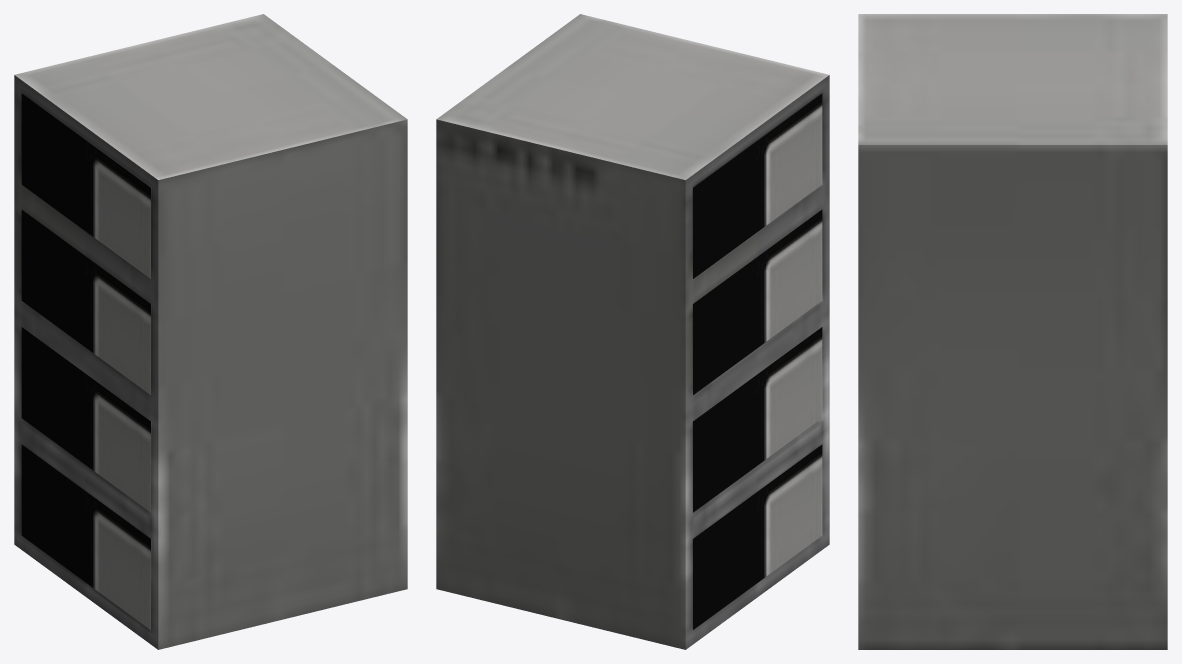
The model's file is filing_cabinet.glb.
The picture shows the model from 3 angles, left to right: view 1: azimuth 30°, elevation 25°; view 2: azimuth 150°, elevation 25°; view 3: azimuth 270°, elevation 25°; orthographic projection. The views are drawn at different scales.
Visible parts, largest first — view 1: filing_cabinet; view 2: filing_cabinet; view 3: filing_cabinet.
Boxes of the visible parts, x1=… form: filing_cabinet: x1=14, y1=14, x2=407, y2=649; filing_cabinet: x1=436, y1=14, x2=829, y2=649; filing_cabinet: x1=858, y1=14, x2=1167, y2=649.
Bounding box in the file's own units: 0.7222 × 1.3 × 0.7222.
1 material, 1 textured.
